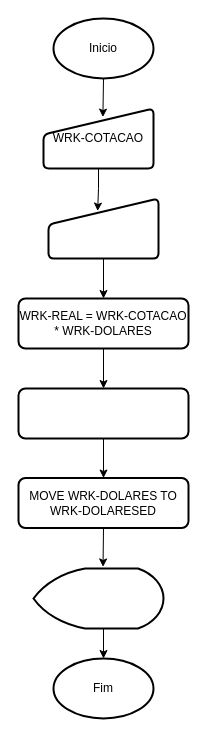
Image size: 206x736. Some labels were removed from this diagram. Here are the shapes that lost their labels. From the top down, the centre of each, then its label:
At pixel 103 228: "WRK-DOLARES".
At pixel 103 413: "MOVE WRK-REAL TO WRK-REALED".
At pixel 98 598: "WRK-DOLARESED WRK-REALED".
